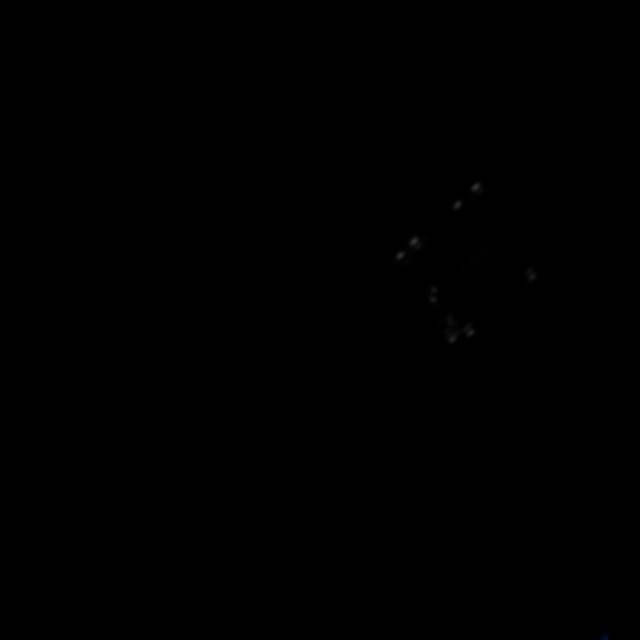medium_debris: (379, 170, 560, 360)
